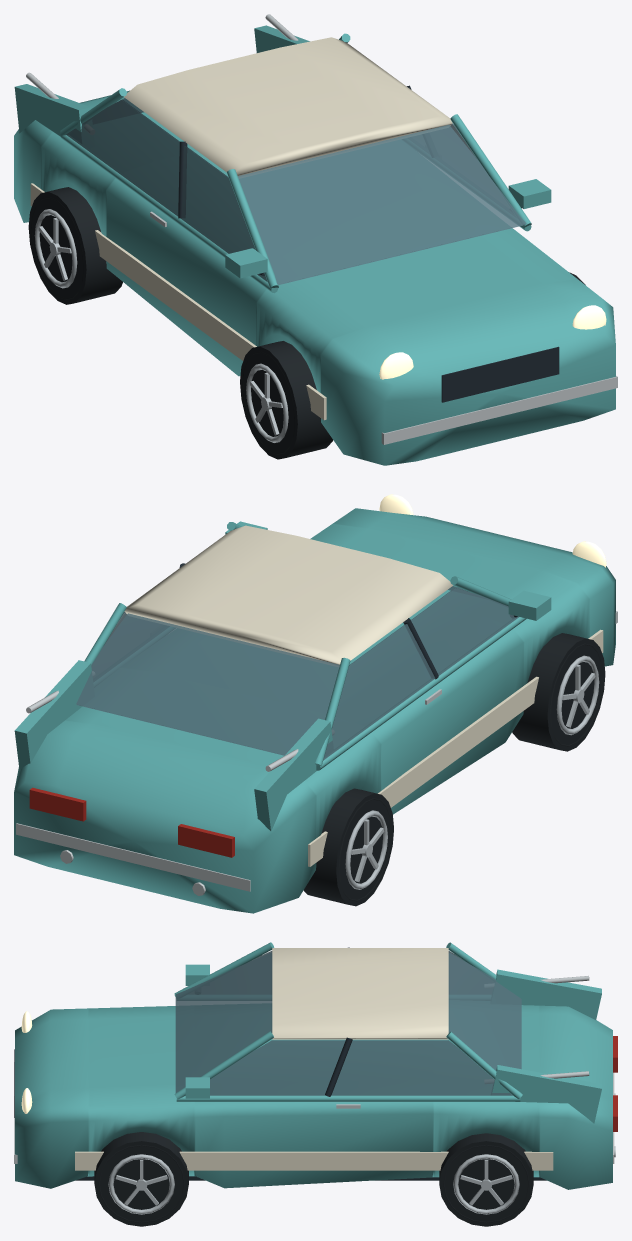
File: belvedere.glb
3 views of the same model, one above another, from view 1: azimuth 30°, elevation 25°; view 2: azimuth 150°, elevation 25°; view 3: azimuth 270°, elevation 25° (orthographic). The views are drawn at different scales.
Visible parts, largest first — view 1: exterior-paint, windows, secondary-paint, tire-front-left, tire-rear-left, black-trim, chrome, rim-rear-left, rim-front-left, headlights; view 2: exterior-paint, windows, secondary-paint, tire-front-left, tire-rear-left, chrome, taillights, rim-rear-left, rim-front-left, headlights; view 3: exterior-paint, windows, secondary-paint, tire-front-right, tire-rear-right, rim-rear-right, rim-front-right, chrome, black-trim, headlights.
Part boxes in pixels (bbox=[...]): exterior-paint: bbox=[14, 25, 615, 465]; windows: bbox=[66, 98, 526, 284]; secondary-paint: bbox=[30, 37, 452, 420]; tire-front-left: bbox=[240, 341, 332, 459]; tire-rear-left: bbox=[28, 187, 122, 304]; black-trim: bbox=[178, 85, 559, 402]; chrome: bbox=[26, 14, 617, 444]; rim-rear-left: bbox=[34, 209, 77, 288]; rim-front-left: bbox=[246, 363, 288, 442]; headlights: bbox=[379, 305, 606, 379]; exterior-paint: bbox=[14, 508, 615, 913]; windows: bbox=[76, 586, 518, 760]; secondary-paint: bbox=[124, 525, 603, 866]; tire-front-left: bbox=[512, 633, 605, 751]; tire-rear-left: bbox=[303, 788, 393, 906]; chrome: bbox=[16, 611, 617, 895]; taillights: bbox=[29, 787, 234, 857]; rim-rear-left: bbox=[345, 810, 387, 889]; rim-front-left: bbox=[556, 655, 599, 735]; headlights: bbox=[379, 494, 606, 567]; exterior-paint: bbox=[15, 942, 612, 1189]; windows: bbox=[175, 951, 521, 1095]; secondary-paint: bbox=[75, 948, 553, 1170]; tire-front-right: bbox=[94, 1132, 188, 1226]; tire-rear-right: bbox=[439, 1133, 533, 1226]; rim-rear-right: bbox=[453, 1154, 519, 1214]; rim-front-right: bbox=[108, 1154, 174, 1214]; chrome: bbox=[14, 976, 615, 1163]; black-trim: bbox=[14, 947, 546, 1180]; headlights: bbox=[21, 1011, 32, 1113].
Size of the model in its own units: 1.95 by 1.31 by 3.96.
